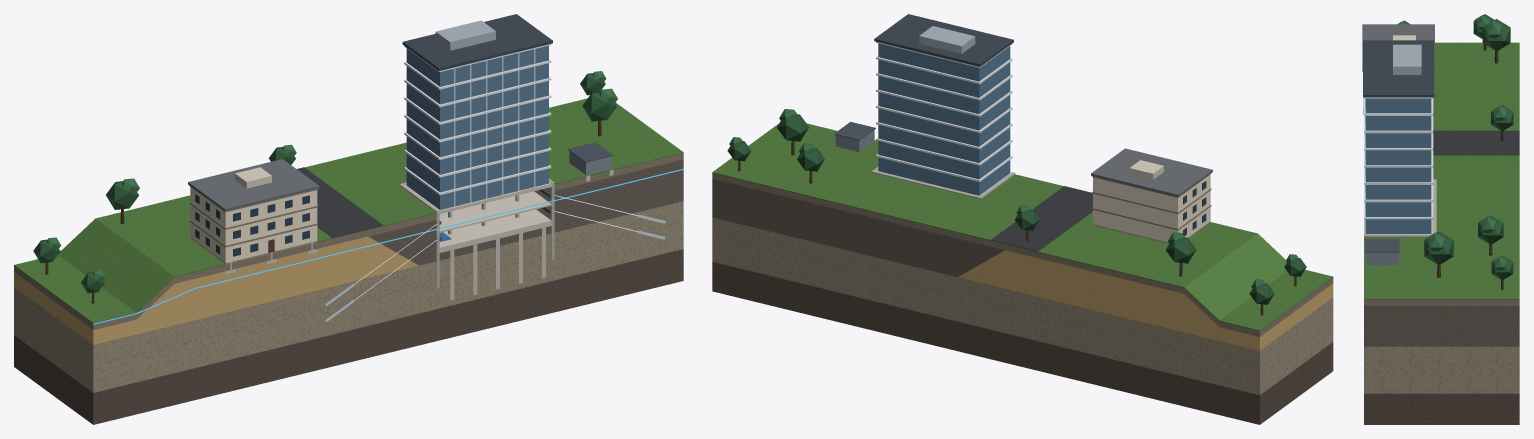
The model's file is egy-telek.glb.
3 renders of one model, left to right at view 1: azimuth 30°, elevation 25°; view 2: azimuth 150°, elevation 25°; view 3: azimuth 270°, elevation 25°, orthographic. The views are drawn at different scales.
Parts seen in each view (by area): view 1: Egy_telek; view 2: Egy_telek; view 3: Egy_telek.
Part boxes in pixels (left/top/right/bottom): Egy_telek: left=14, top=14, right=683, bottom=424; Egy_telek: left=712, top=14, right=1333, bottom=424; Egy_telek: left=1362, top=14, right=1519, bottom=424.
Bounding box in the file's own units: 0.7733 × 0.352 × 0.182.
53 materials, 7 textured.
